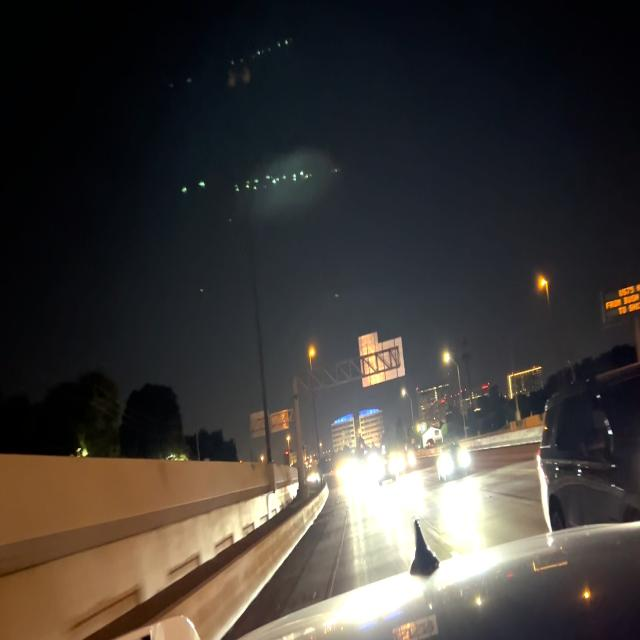back-of-sign: (356, 332, 404, 390)
